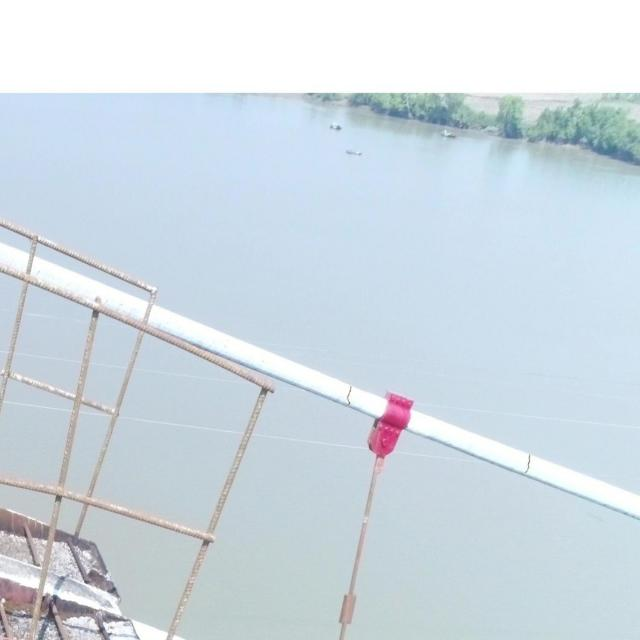crack: (346, 385, 352, 406), (524, 453, 530, 474)
